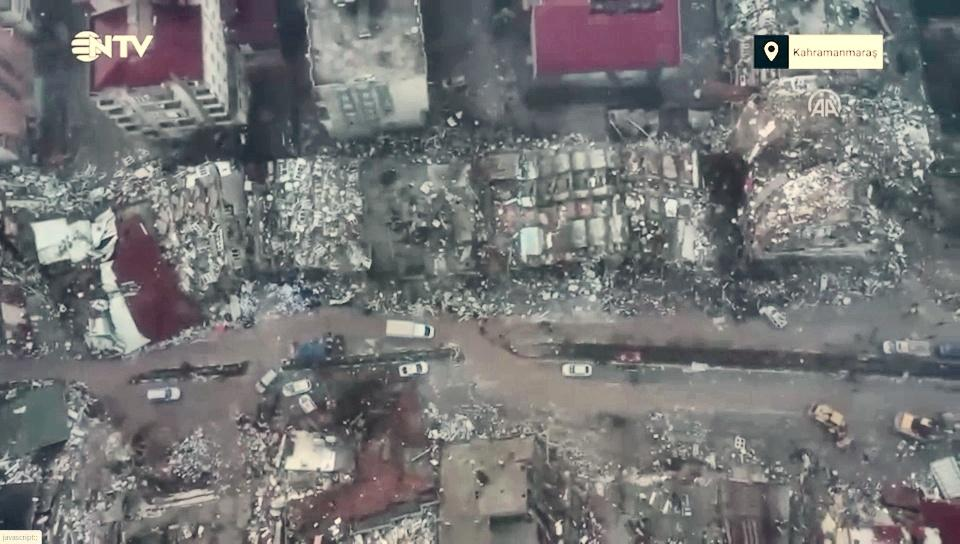kapali: (0, 282, 296, 384), (219, 359, 469, 464), (1, 382, 153, 484)
